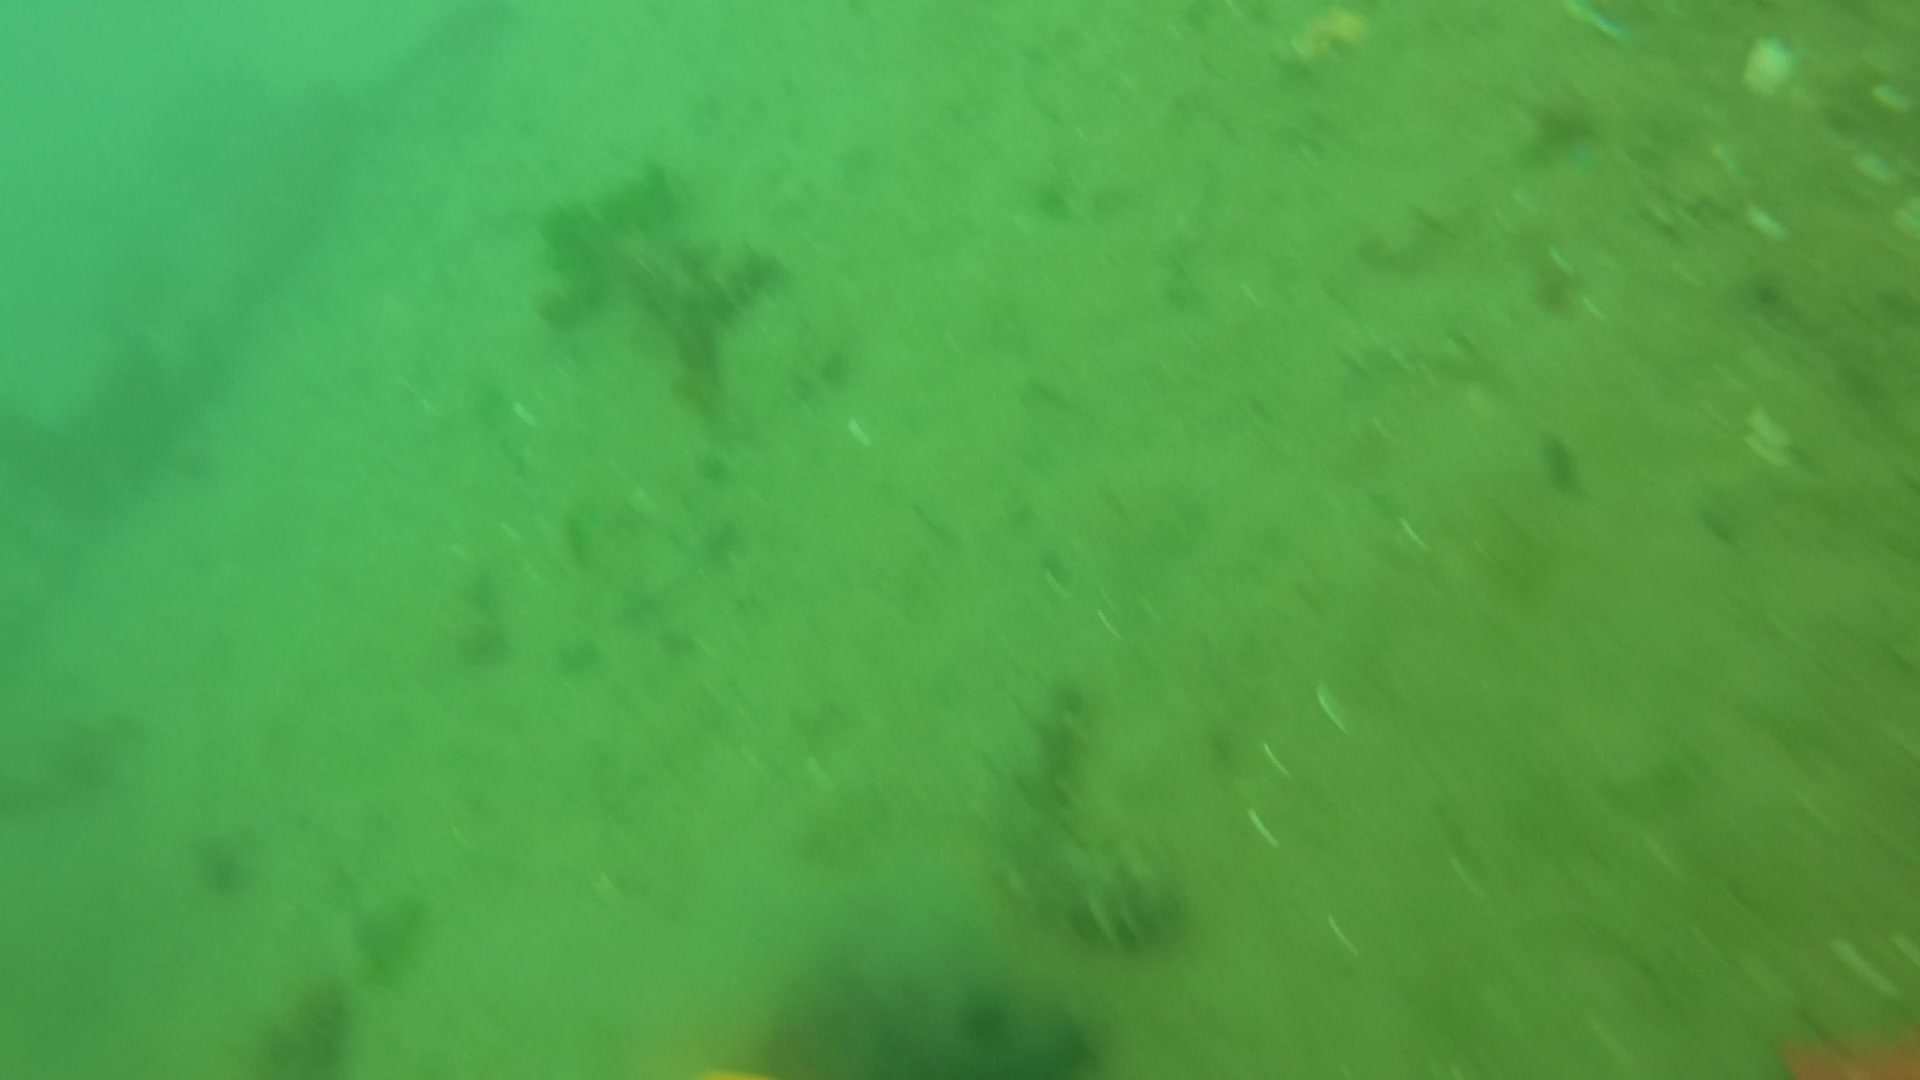holothurian: (973, 683, 1188, 953)
starfish: (527, 162, 782, 396), (1760, 981, 1917, 1075)
